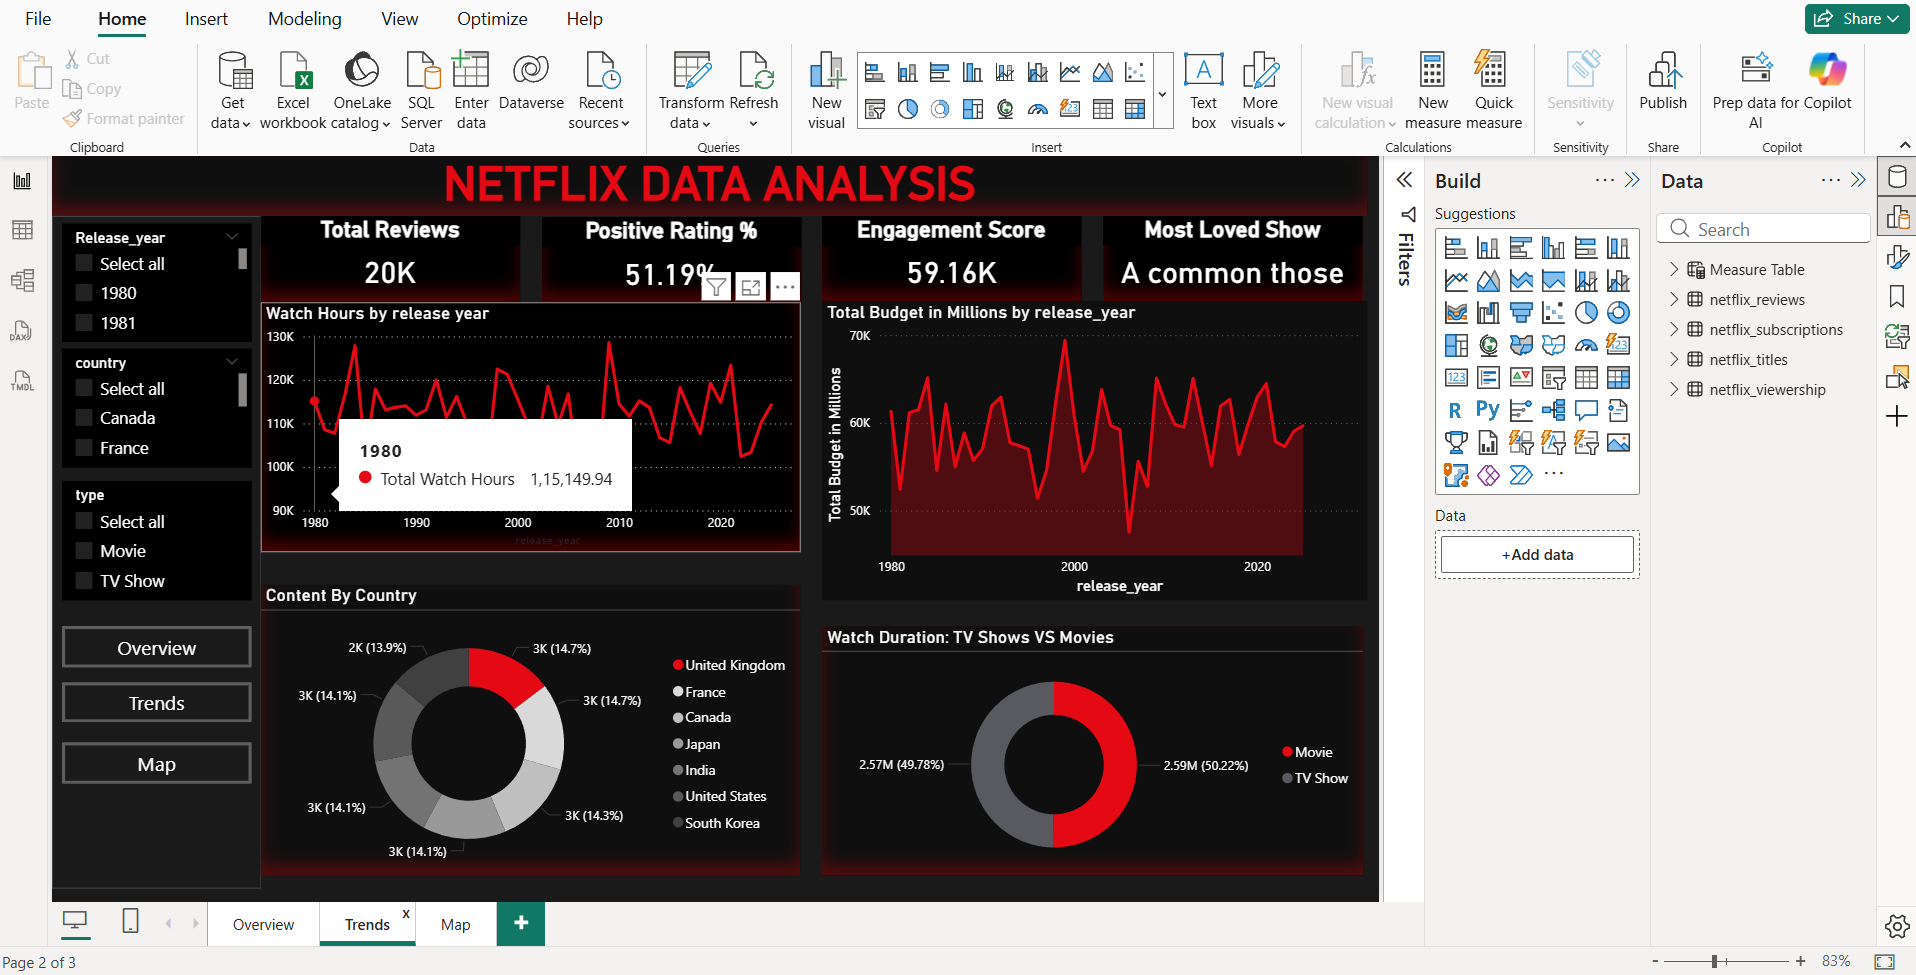

What the dashboard file says about the page in this screenshot:
{"tool":"powerbi","page":{"name":"Trends","canvas":[1280,720],"ordinal":1},"visuals":[{"type":"textbox","title":"NETFLIX DATA ANALYSIS","box":[0,0,1269.6,57.7],"z":0},{"type":"actionButton","box":[10.1,453,183,40.2],"z":0,"group":"g1"},{"type":"shape","box":[0,57.7,202,649.2],"z":1000},{"type":"actionButton","box":[10.1,565,183,40.2],"z":1000,"group":"g1"},{"type":"card","title":"Total Reviews","fields":{"Values":["Measure Table.Total Reviews"]},"box":[202,57.7,250,82.2],"z":2000},{"type":"actionButton","box":[10.1,507.6,183,38.8],"z":2000,"group":"g1"},{"type":"card","title":"Most Loved Show","fields":{"Values":["Measure Table.Most Loved Show"]},"box":[1014.3,57.7,250,82.2],"z":3000},{"type":"card","title":"Positive Rating %","fields":{"Values":["Measure Table.Positive %"]},"box":[472.7,59.2,250,82.2],"z":4000},{"type":"card","title":"Engagement Score","fields":{"Values":["Measure Table.Engagment Score"]},"box":[743.5,57.7,250,82.2],"z":5000},{"type":"lineChart","title":"Watch Hours by release year","fields":{"Category":["netflix_titles.release_year"],"Y":["Measure Table.Total Watch Hours"]},"box":[202,141.4,520.8,240.9],"z":6000},{"type":"stackedAreaChart","fields":{"Category":["netflix_titles.release_year"],"Y":["Measure Table.Total Budget in Millions"]},"box":[743,139.9,526.6,288.6],"z":7000},{"type":"donutChart","title":"Watch Duration: TV Shows VS Movies","fields":{"Category":["netflix_titles.type"],"Y":["Measure Table.Total Watch Hours"]},"box":[743,453,522.3,240.9],"z":8000},{"type":"donutChart","title":"Content By Country","fields":{"Y":["Measure Table.Total Shows"],"Category":["netflix_titles.country"]},"box":[202,414.1,520.8,279.9],"z":9000},{"type":"slicer","fields":{"Values":["netflix_titles.release_year"]},"box":[9.7,65.1,183.4,114.6],"z":9001},{"type":"slicer","fields":{"Values":["netflix_titles.country"]},"box":[10.1,186.1,183.2,115.4],"z":9002},{"type":"slicer","fields":{"Values":["netflix_titles.type"]},"box":[10.1,313.1,183.2,115.4],"z":9003},{"type":"group","id":"g1","title":"Navigation Buttons","box":[10.1,453,183.2,151.5],"z":9004}]}

Visuals, with their boxes on the page's 1280x720 design canvas (x1, y1, x2, y2). These are canvas units, not pixel positions in the 1916x975 screenshot, which may show the page scaled, cropped or inside an application window:
"NETFLIX DATA ANALYSIS" textbox: BBox(0, 0, 1270, 58)
actionButton: BBox(10, 453, 193, 493)
shape: BBox(0, 58, 202, 707)
actionButton: BBox(10, 565, 193, 605)
"Total Reviews" card: BBox(202, 58, 452, 140)
actionButton: BBox(10, 508, 193, 546)
"Most Loved Show" card: BBox(1014, 58, 1264, 140)
"Positive Rating %" card: BBox(473, 59, 723, 141)
"Engagement Score" card: BBox(744, 58, 994, 140)
"Watch Hours by release year" lineChart: BBox(202, 141, 723, 382)
stackedAreaChart - netflix_titles.release_year x Measure Table.Total Budget in Millions: BBox(743, 140, 1270, 428)
"Watch Duration: TV Shows VS Movies" donutChart: BBox(743, 453, 1265, 694)
"Content By Country" donutChart: BBox(202, 414, 723, 694)
slicer - netflix_titles.release_year: BBox(10, 65, 193, 180)
slicer - netflix_titles.country: BBox(10, 186, 193, 302)
slicer - netflix_titles.type: BBox(10, 313, 193, 428)
"Navigation Buttons" group: BBox(10, 453, 193, 604)
